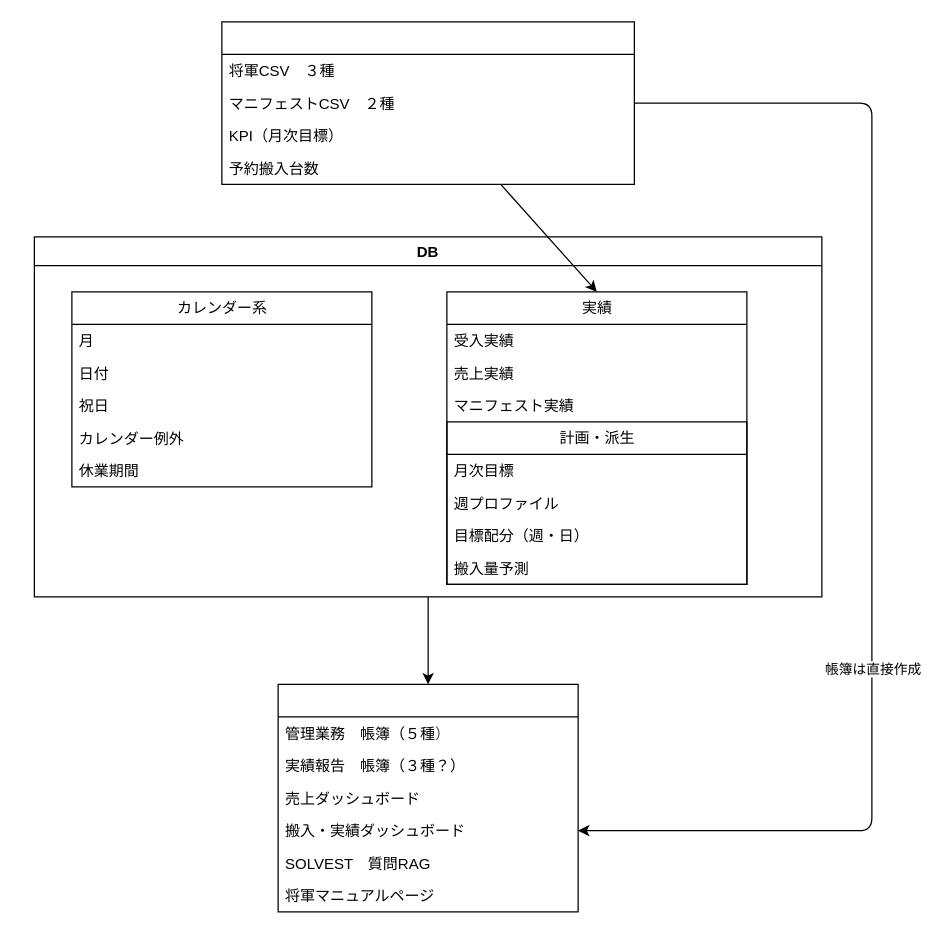
Some shapes in this 941 by 938 pixel diagram are drawn without their labels. The shapes that lost their labels are listed below. From the top down, each one's box as (x1, y1, x2, y2) in pixels, then its label:
(221, 21, 634, 184): 入力・ソース
(277, 683, 578, 912): 出力（利用・可視化）
